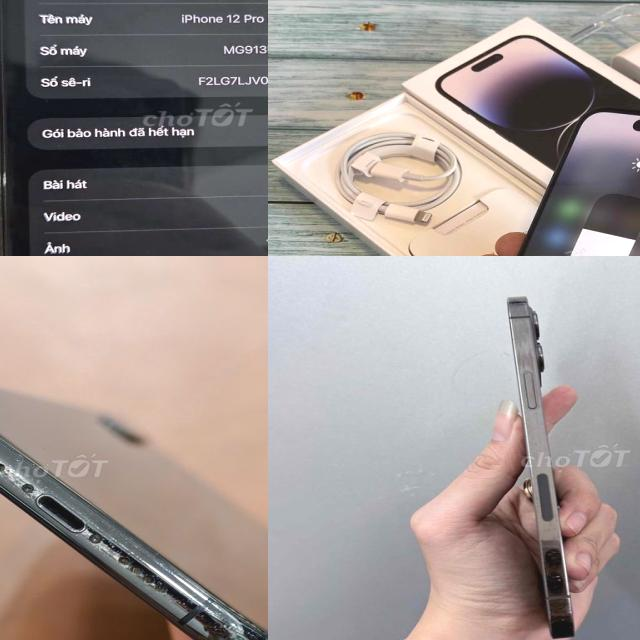gen_12_13: (0, 0, 268, 256), (496, 290, 592, 640)
gen_14: (470, 98, 640, 256)
gen_x_xs: (0, 356, 268, 640)
